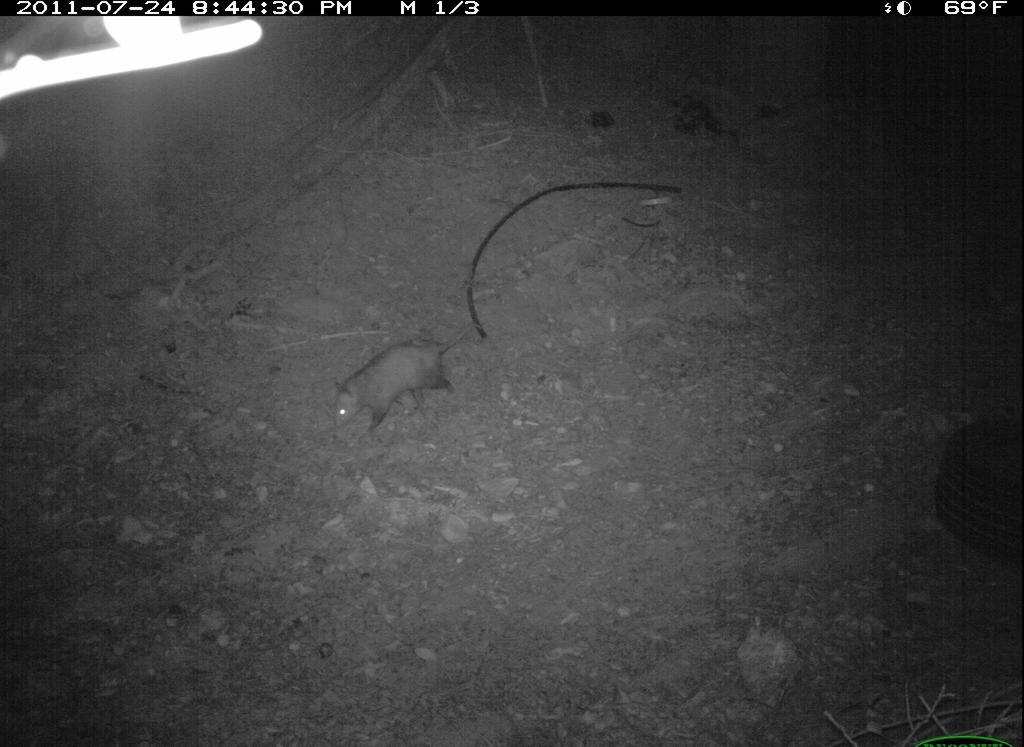opossum: (328, 317, 483, 441)
